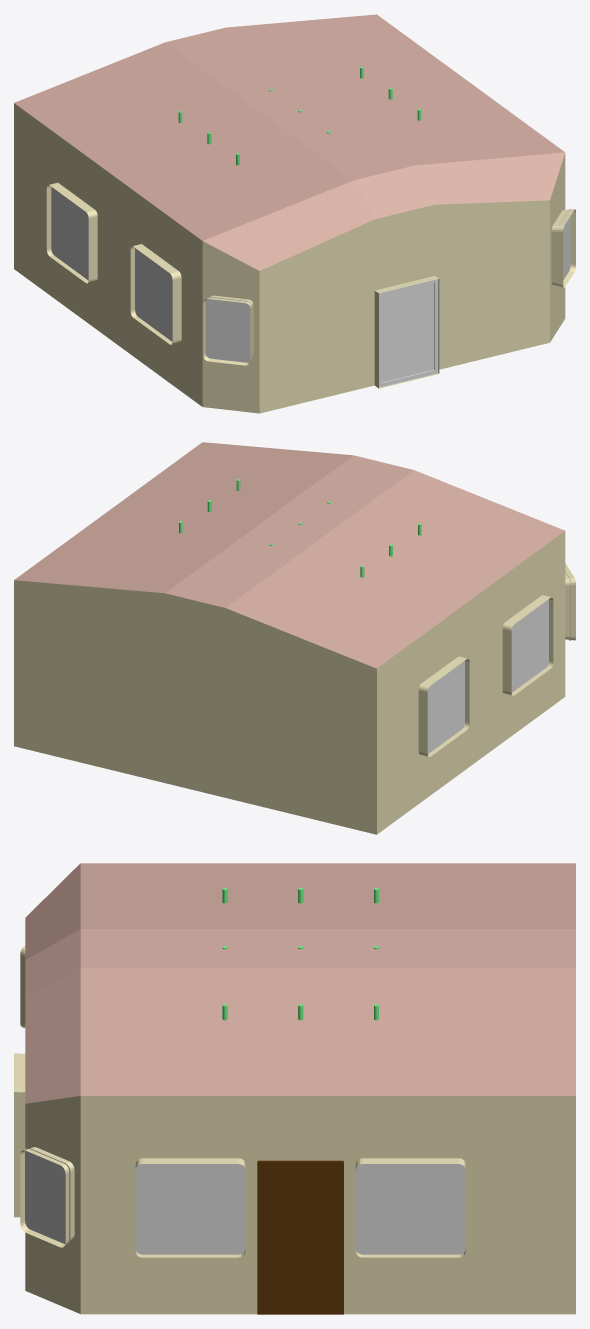
Rendered from Environment.fbx.
The picture shows the model from 3 angles, top to bottom: view 1: azimuth 30°, elevation 25°; view 2: azimuth 150°, elevation 25°; view 3: azimuth 270°, elevation 25°; orthographic projection. The views are drawn at different scales.
Parts seen in each view (by area): view 1: Building; view 2: Building; view 3: Building, Shelf.
Part boxes in pixels (bbox=[...]): Building: bbox=[14, 14, 575, 413]; Building: bbox=[14, 442, 575, 834]; Building: bbox=[14, 863, 575, 1314]; Shelf: bbox=[257, 1160, 343, 1314].
Size of the model in its own units: 840 by 404 by 817.
